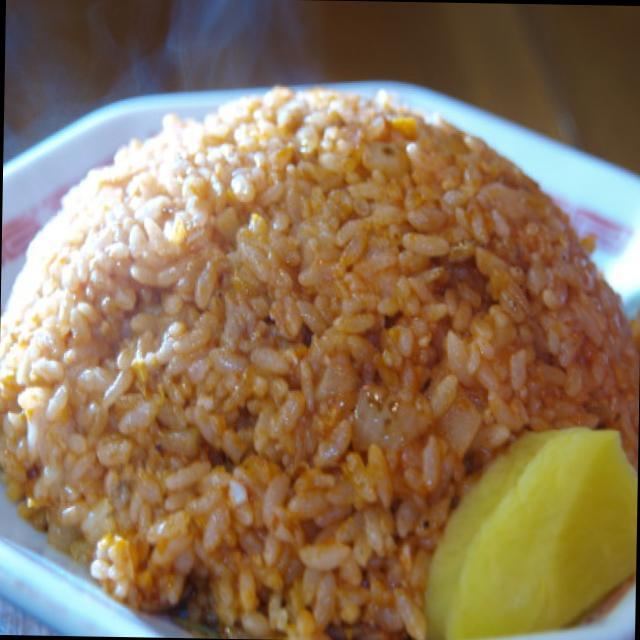Rice: (5, 78, 640, 618)
